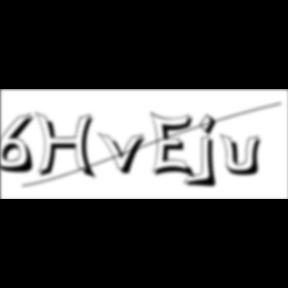6: (0, 112, 40, 176)
E: (150, 110, 199, 182)
H: (35, 112, 101, 182)
j: (196, 113, 224, 191)
u: (220, 132, 268, 178)
v: (98, 131, 152, 177)
